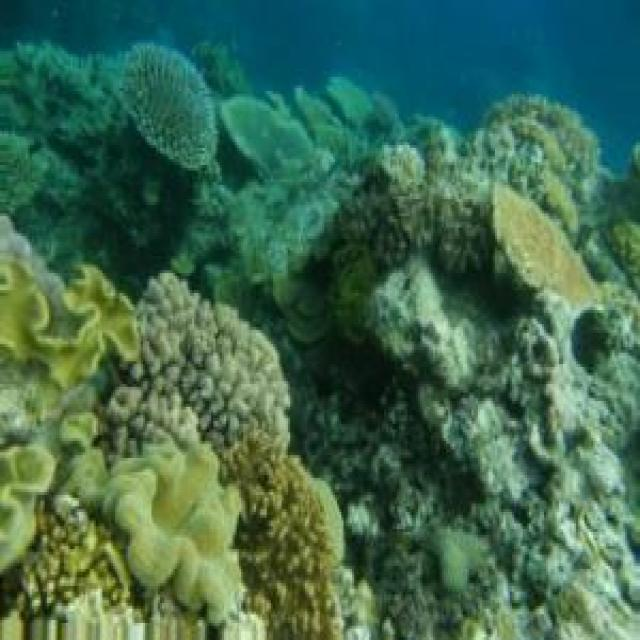bleached coral: (284, 350, 433, 583), (367, 185, 533, 384), (559, 316, 640, 614), (439, 455, 555, 609), (452, 378, 548, 506)
healthy coral: (0, 57, 192, 299), (233, 125, 375, 347), (113, 415, 245, 626), (139, 282, 286, 447), (506, 122, 640, 287), (237, 458, 343, 640), (192, 46, 311, 188), (0, 347, 55, 543), (395, 105, 471, 156)
